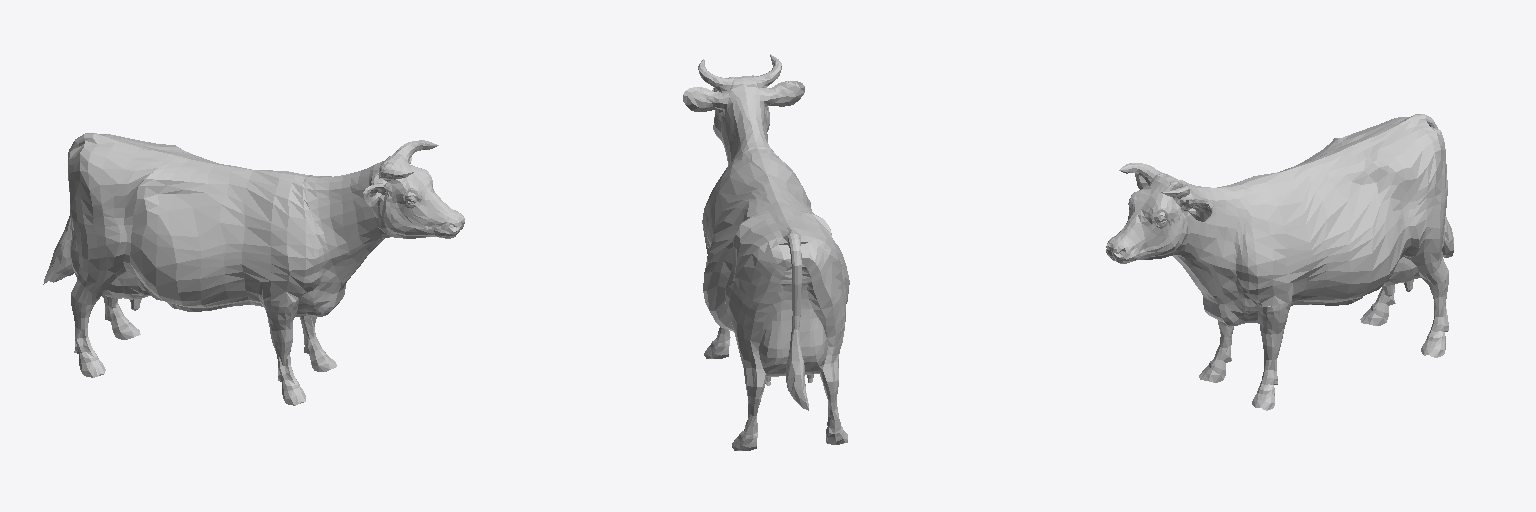
Rendered from scene_cow.obj.
3 renders of one model, left to right at view 1: azimuth 30°, elevation 25°; view 2: azimuth 150°, elevation 25°; view 3: azimuth 270°, elevation 25°, orthographic.
Visible parts, largest first — view 1: cow.001; view 2: cow.001; view 3: cow.001.
Boxes of the visible parts, x1=… form: cow.001: x1=43, y1=133, x2=464, y2=405; cow.001: x1=683, y1=54, x2=849, y2=450; cow.001: x1=1106, y1=114, x2=1453, y2=410.
Size of the model in its own units: 4 by 3.71 by 4.73.